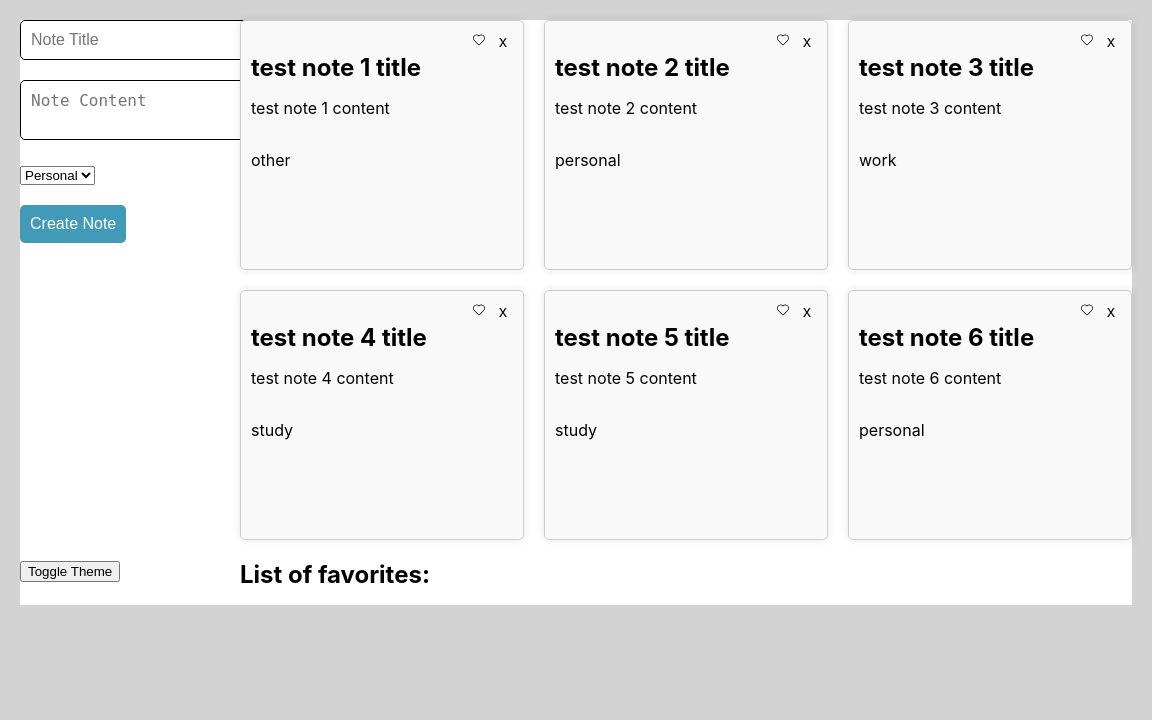
Test: StickyNotes › creates and reads a new note
Type "Test Note" into the field with placeholder "Note Title" at coordinates (134, 40), box [20,20,249,60]
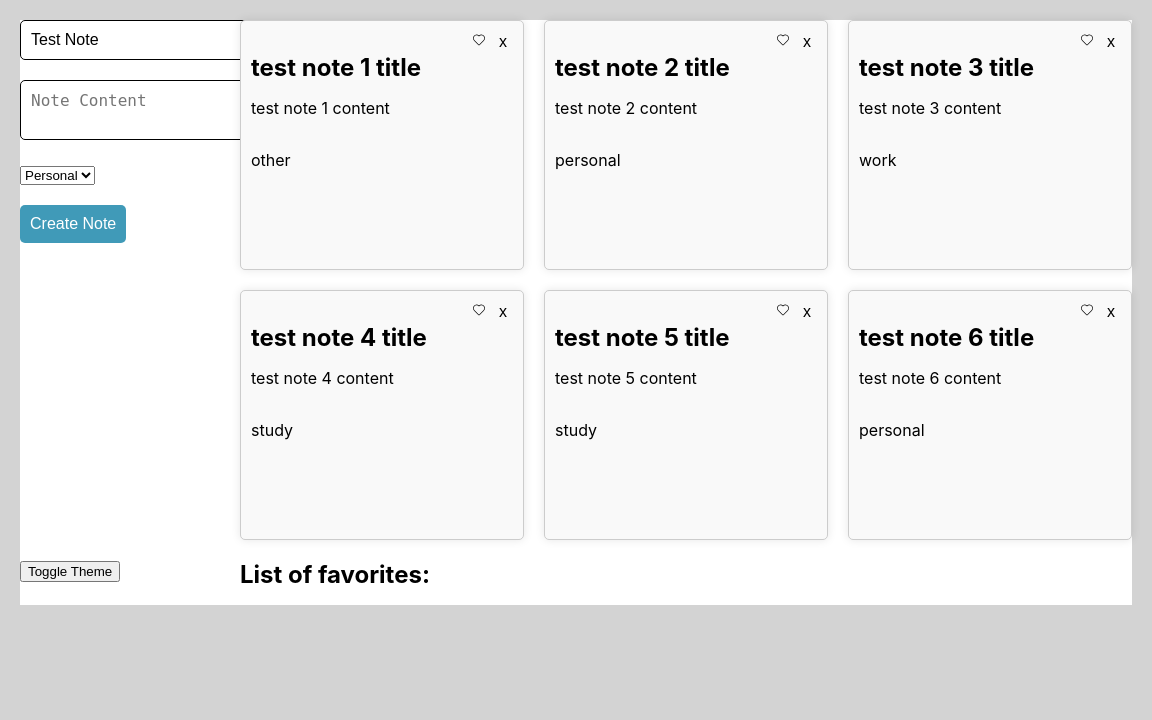
Type "Test Content" into the text box with placeholder "Note Content" at coordinates (138, 110), box [20,80,257,140]
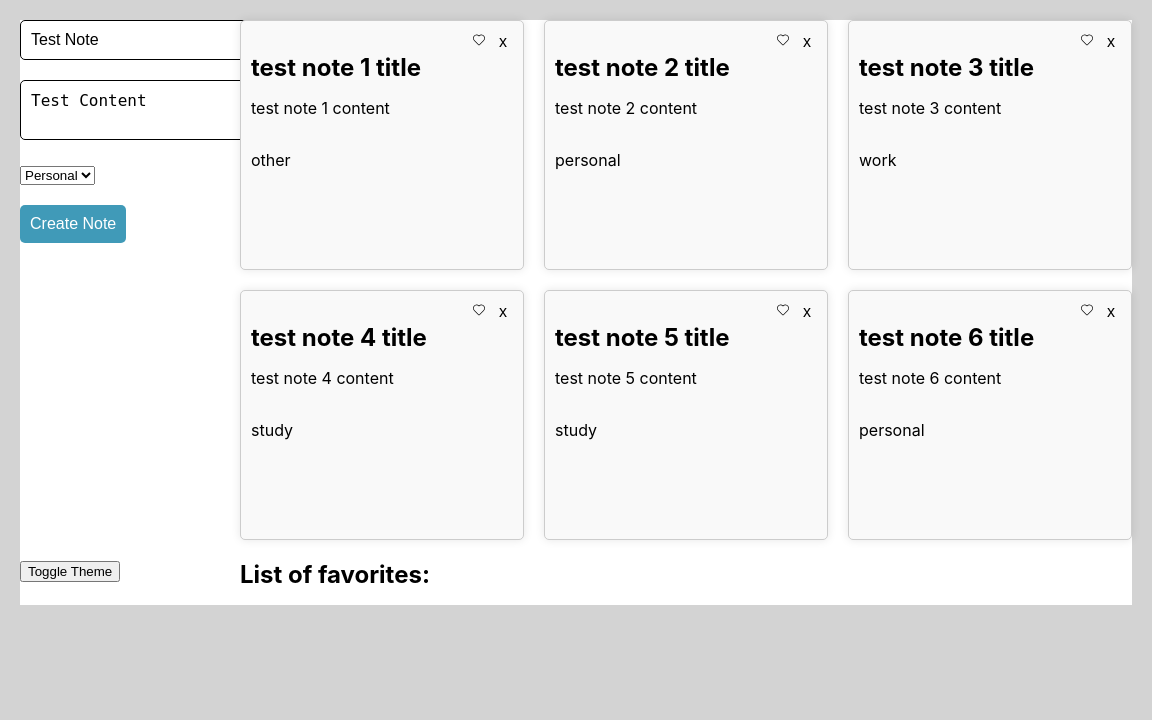
Click the button "Create Note" at coordinates (73, 224), box [20,205,126,243]
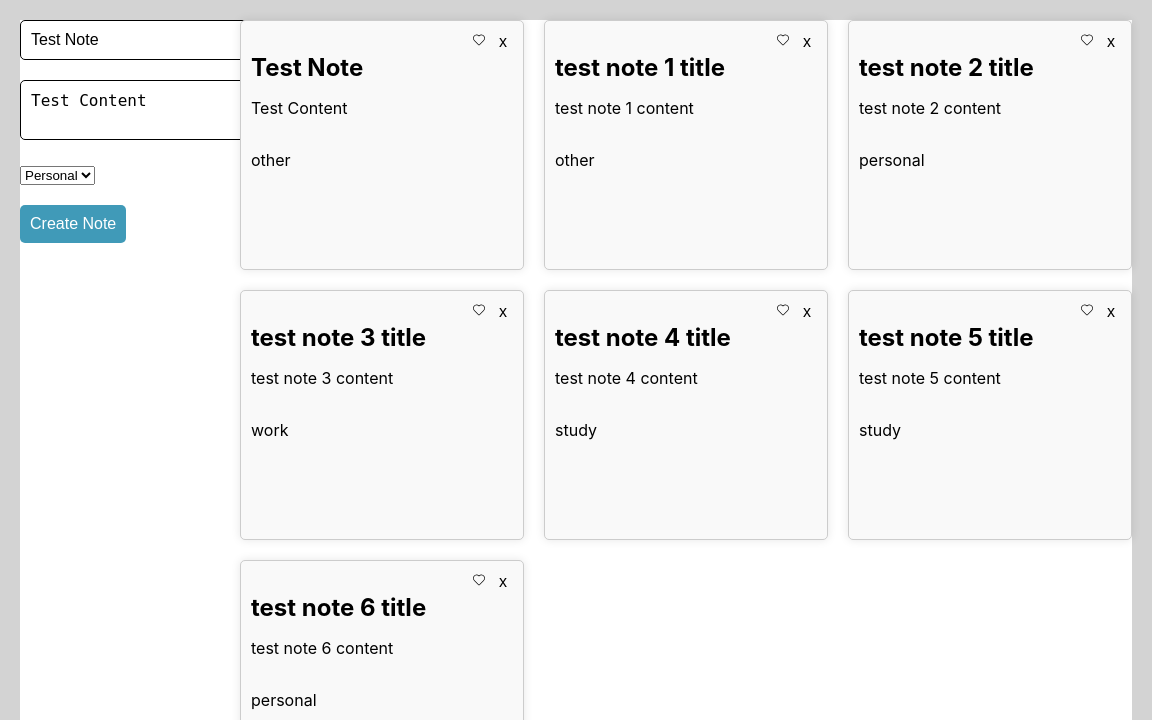
Now the heading "Test Note" is shown, box [251,53,363,82]
Now the text box "Test Content" is shown, box [251,98,347,118]
